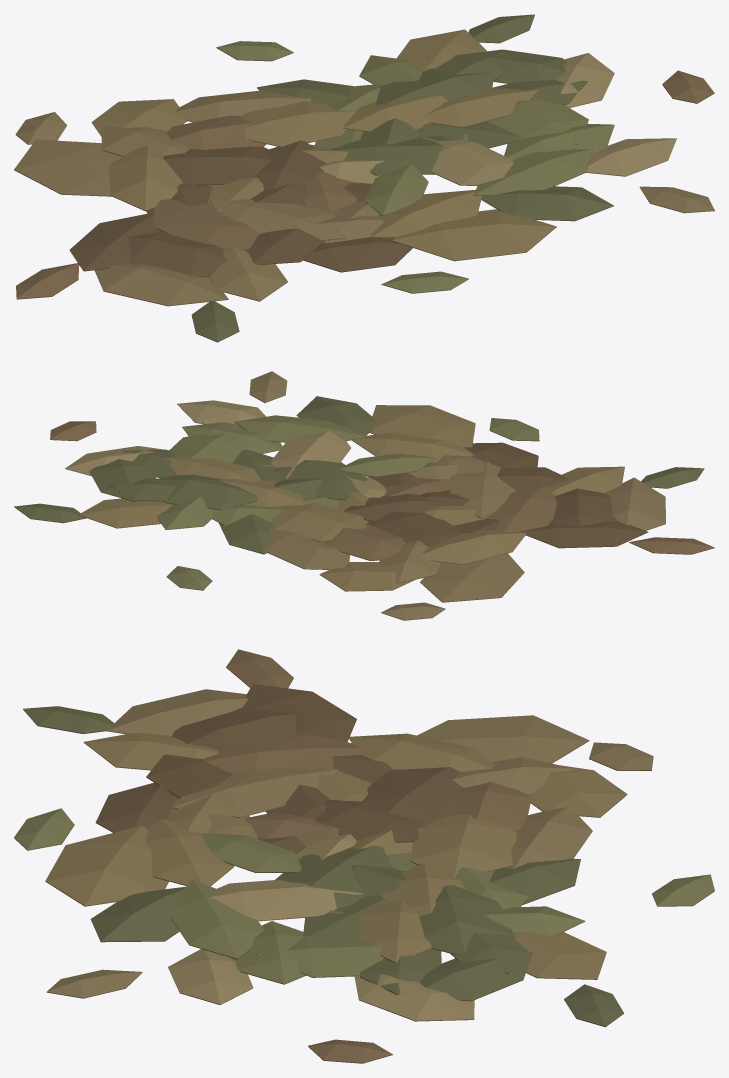
The model's file is SM_LeafLitter.fbx.
3 renders of one model, top to bottom at view 1: azimuth 30°, elevation 25°; view 2: azimuth 150°, elevation 25°; view 3: azimuth 270°, elevation 25°, orthographic. The views are drawn at different scales.
Visible parts, largest first — view 1: SM_LeafLitter; view 2: SM_LeafLitter; view 3: SM_LeafLitter.
Boxes of the visible parts, x1=… form: SM_LeafLitter: x1=14, y1=14, x2=714, y2=342; SM_LeafLitter: x1=14, y1=371, x2=714, y2=620; SM_LeafLitter: x1=14, y1=649, x2=714, y2=1063.
Size of the model in its own units: 176 by 126 by 5.19.
Materials: 1 (1 with a texture image).
